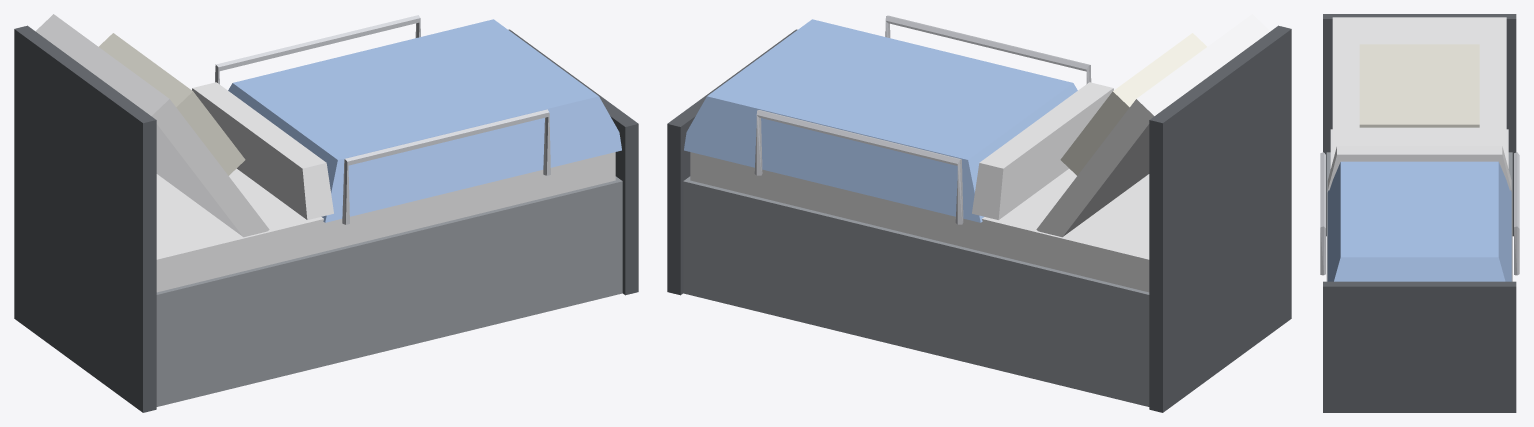
File: WardBedRaised.obj
3 renders of one model, left to right at view 1: azimuth 30°, elevation 25°; view 2: azimuth 150°, elevation 25°; view 3: azimuth 270°, elevation 25°, orthographic. The views are drawn at different scales.
Visible parts, largest first — view 1: WardBedRaised; view 2: WardBedRaised; view 3: WardBedRaised.
Part boxes in pixels (bbox=[...]): WardBedRaised: bbox=[14, 14, 638, 412]; WardBedRaised: bbox=[667, 14, 1291, 412]; WardBedRaised: bbox=[1320, 14, 1519, 412].
Bounding box in the file's own units: 2.22 × 1.29 × 1.03.
1 material, 1 textured.
